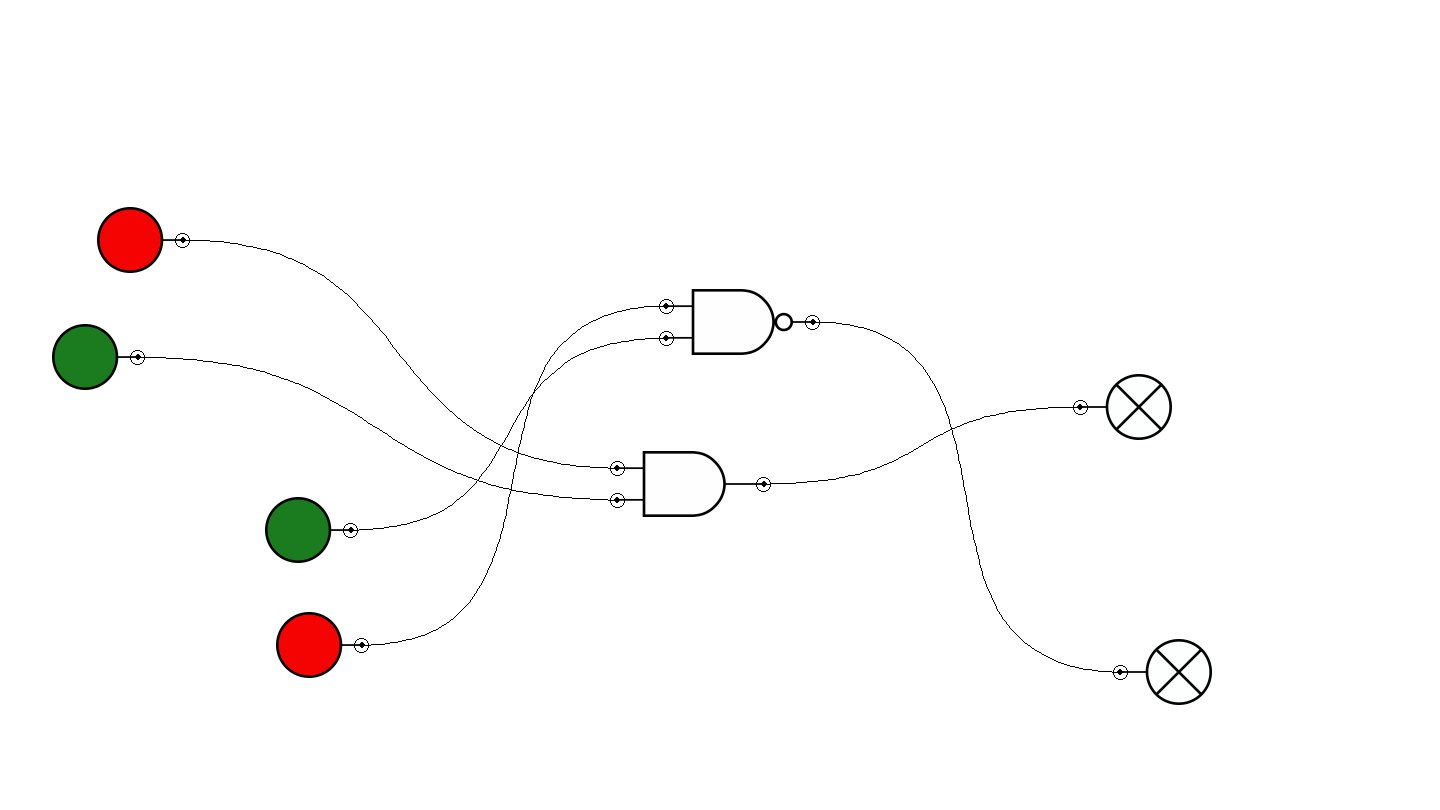and: (610, 451, 771, 517)
bulb: (1073, 374, 1172, 440), (1113, 639, 1212, 705)
nand: (659, 289, 820, 355)
switch_False: (276, 612, 369, 678), (97, 207, 190, 273)
switch_True: (265, 497, 358, 563), (52, 324, 145, 390)
